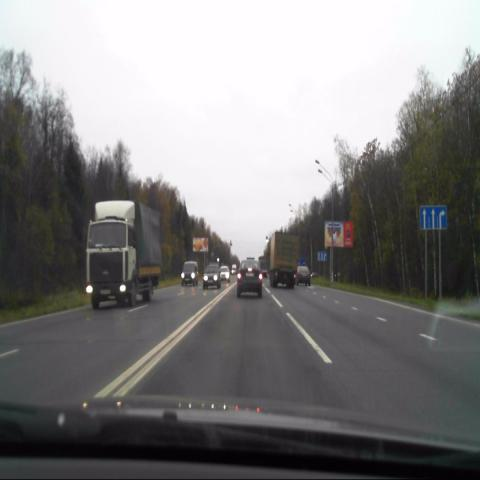5_15_1: (420, 205, 448, 230)
